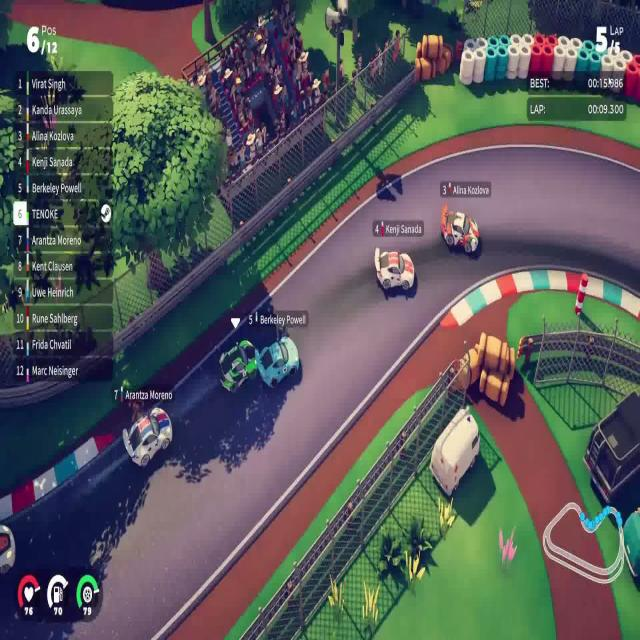car: (121, 405, 172, 468), (255, 334, 300, 389), (218, 338, 257, 394), (440, 202, 480, 256), (374, 245, 416, 293)
